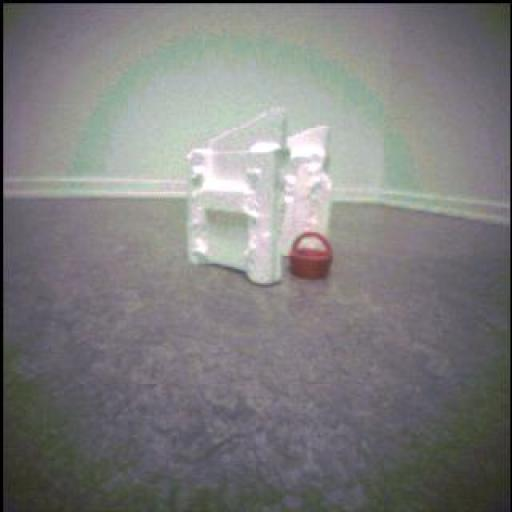Bucket: (291, 233, 334, 281)
